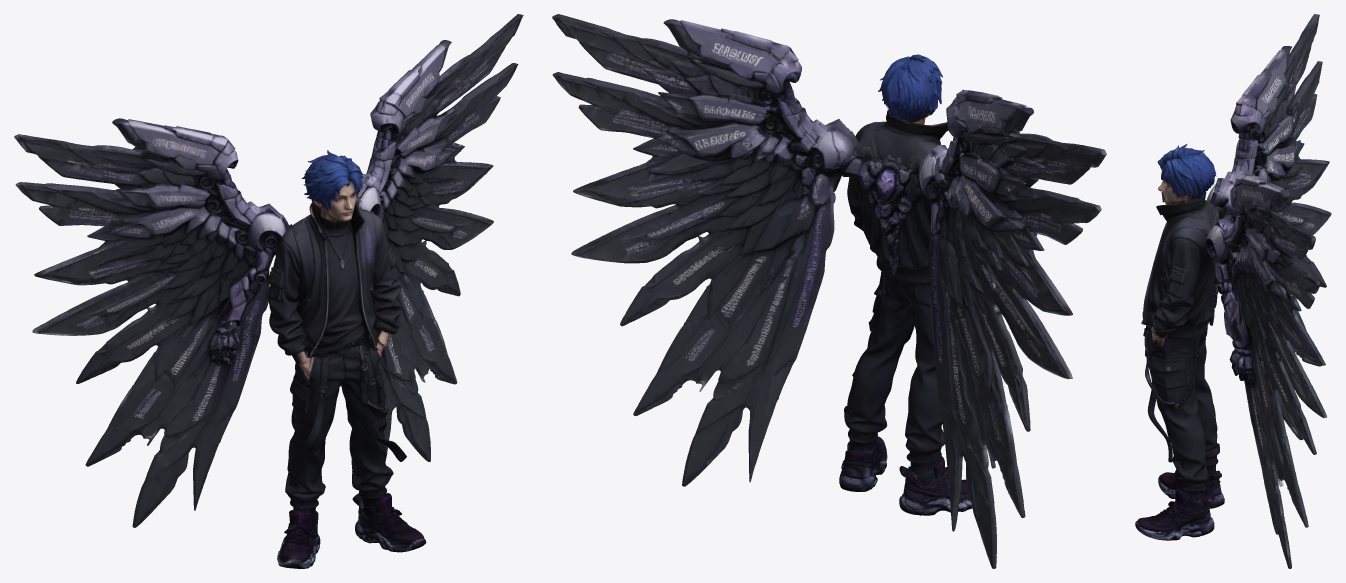
File: carl-wing-hero.glb
The picture shows the model from 3 angles, left to right: view 1: azimuth 30°, elevation 25°; view 2: azimuth 150°, elevation 25°; view 3: azimuth 270°, elevation 25°; orthographic projection. The views are drawn at different scales.
Visible parts, largest first — view 1: node_0; view 2: node_0; view 3: node_0.
Boxes of the visible parts, x1=… form: node_0: x1=14, y1=14, x2=523, y2=568; node_0: x1=552, y1=14, x2=1106, y2=568; node_0: x1=1135, y1=14, x2=1331, y2=568.
Size of the model in its own units: 4.59 by 3.73 by 1.68.
1 material, 1 textured.
